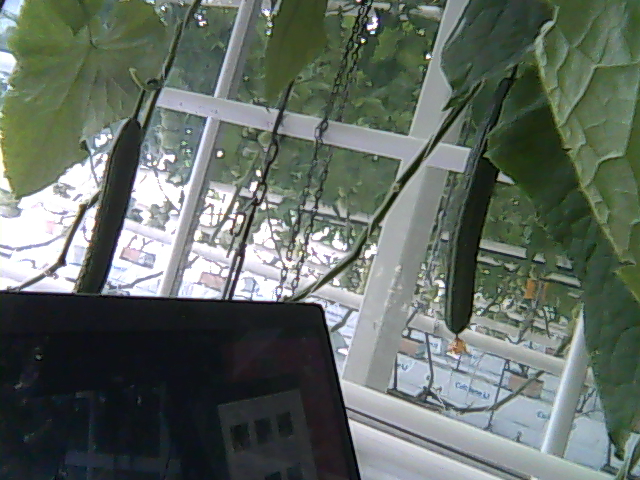concombre: (442, 69, 516, 356), (67, 110, 147, 295)
